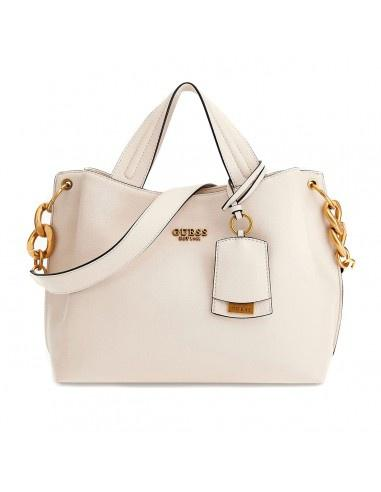GUESS: (172, 228, 207, 236)
